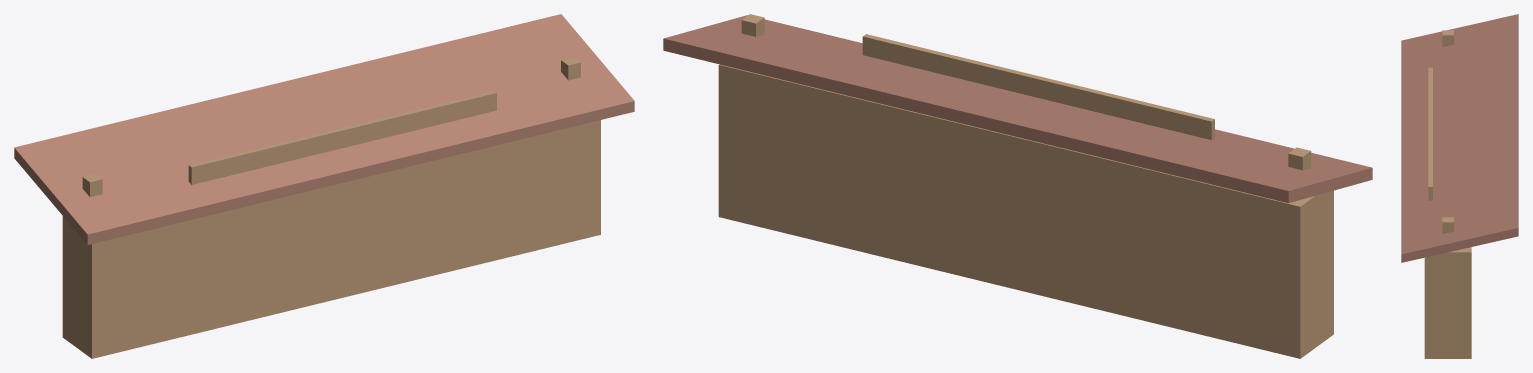
File: market_stall.glb
3 renders of one model, left to right at view 1: azimuth 30°, elevation 25°; view 2: azimuth 150°, elevation 25°; view 3: azimuth 270°, elevation 25°, orthographic. The views are drawn at different scales.
Parts seen in each view (by area): view 1: MarketCounter, MarketAwning, MarketSign; view 2: MarketCounter, MarketAwning, MarketSign; view 3: MarketAwning, MarketCounter, MarketSign, MarketPost_-1.88, MarketPost_1.88.
Boxes of the visible parts, x1,y1,x2,y2 form: MarketCounter: [62, 120, 600, 358]; MarketAwning: [14, 14, 634, 244]; MarketSign: [188, 91, 496, 184]; MarketCounter: [718, 64, 1333, 358]; MarketAwning: [663, 15, 1372, 203]; MarketSign: [862, 34, 1214, 140]; MarketAwning: [1401, 14, 1518, 262]; MarketCounter: [1424, 247, 1471, 358]; MarketSign: [1428, 67, 1432, 200]; MarketPost_-1.88: [1442, 30, 1453, 46]; MarketPost_1.88: [1442, 217, 1453, 233].
Size of the model in its own units: 4.3 by 1.3 by 1.
